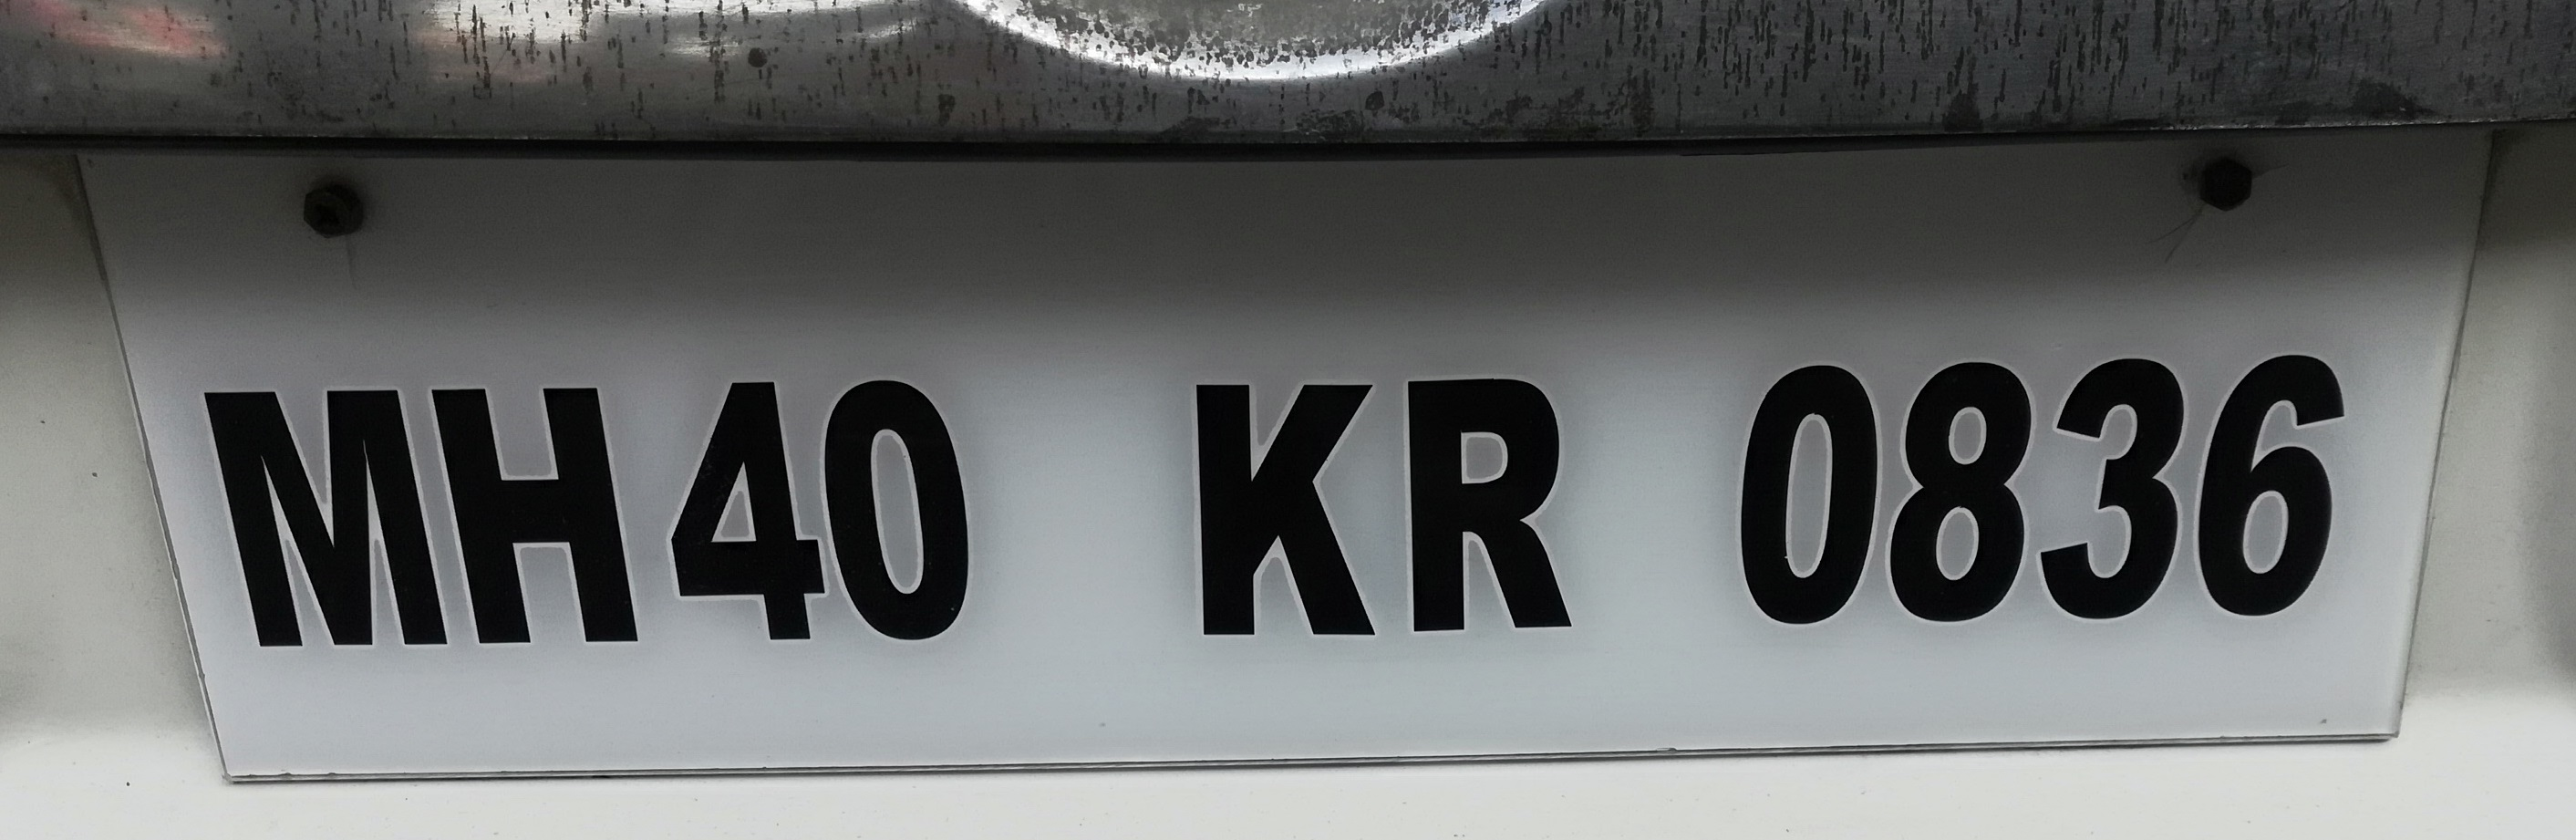numberplate: (62, 117, 2506, 799)
